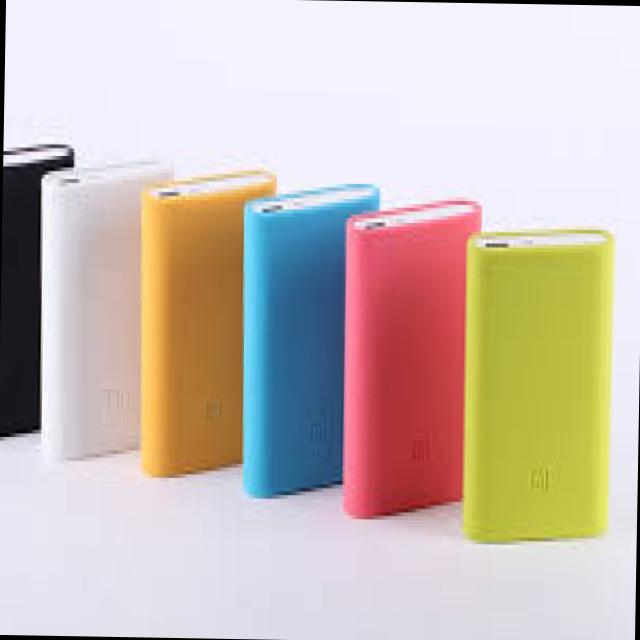portable-charger: (235, 175, 385, 508), (32, 158, 190, 472), (340, 194, 484, 530), (461, 234, 612, 547), (134, 174, 270, 478), (0, 127, 75, 444)
